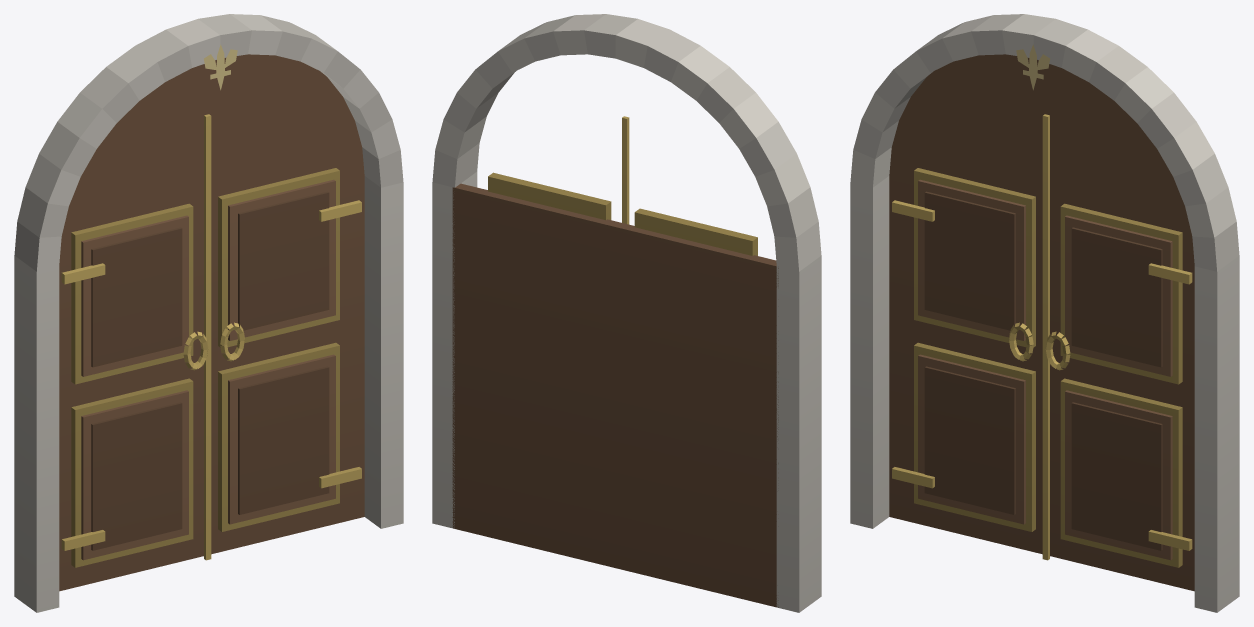
The model's file is palace_door_double.glb.
3 renders of one model, left to right at view 1: azimuth 30°, elevation 25°; view 2: azimuth 150°, elevation 25°; view 3: azimuth 330°, elevation 25°, orthographic.
Visible parts, largest first — view 1: palace_door_double; view 2: palace_door_double; view 3: palace_door_double.
Part boxes in pixels (x1=…): palace_door_double: x1=14, y1=14, x2=403, y2=612; palace_door_double: x1=432, y1=14, x2=821, y2=612; palace_door_double: x1=850, y1=14, x2=1239, y2=612.
Size of the model in its own units: 1.8 by 2.5 by 0.195.
